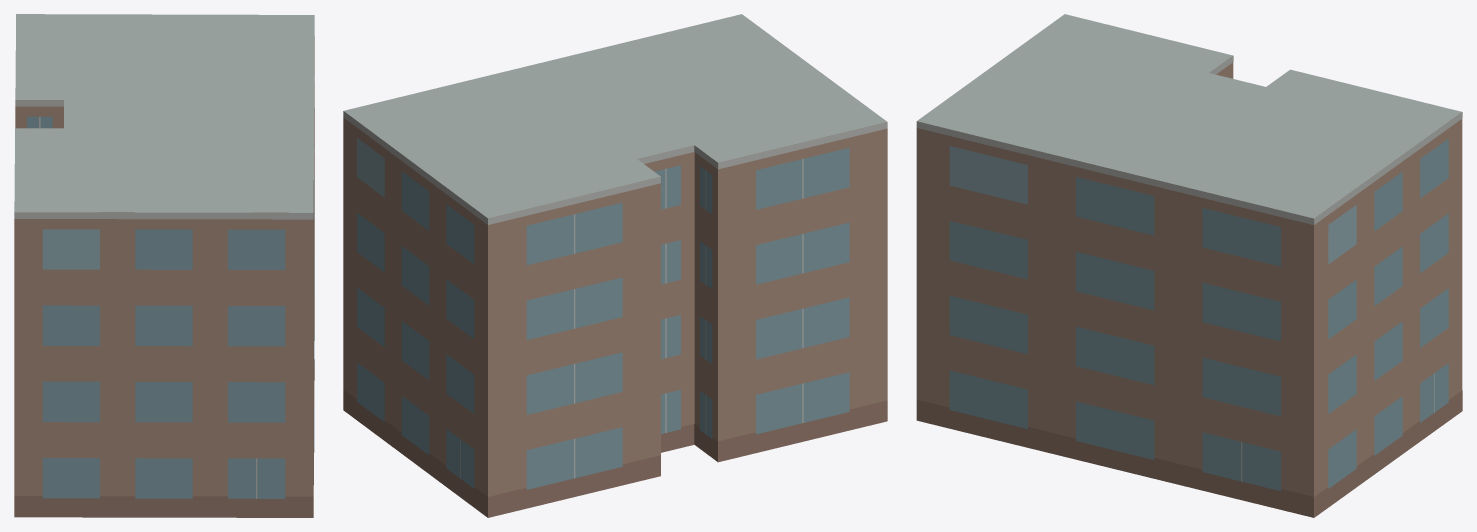
Rendered from survey-upis-32976467.glb.
The picture shows the model from 3 angles, left to right: view 1: azimuth 30°, elevation 25°; view 2: azimuth 150°, elevation 25°; view 3: azimuth 270°, elevation 25°; orthographic projection.
Parts seen in each view (by area): view 1: survey-upis-32976467.tmp; view 2: survey-upis-32976467.tmp; view 3: survey-upis-32976467.tmp.
Boxes of the visible parts, x1,y1,x2,y2 form: survey-upis-32976467.tmp: (14, 14, 314, 517); survey-upis-32976467.tmp: (343, 14, 887, 517); survey-upis-32976467.tmp: (916, 14, 1462, 517).
Bounding box in the file's own units: 16.21 × 11.05 × 18.27.
